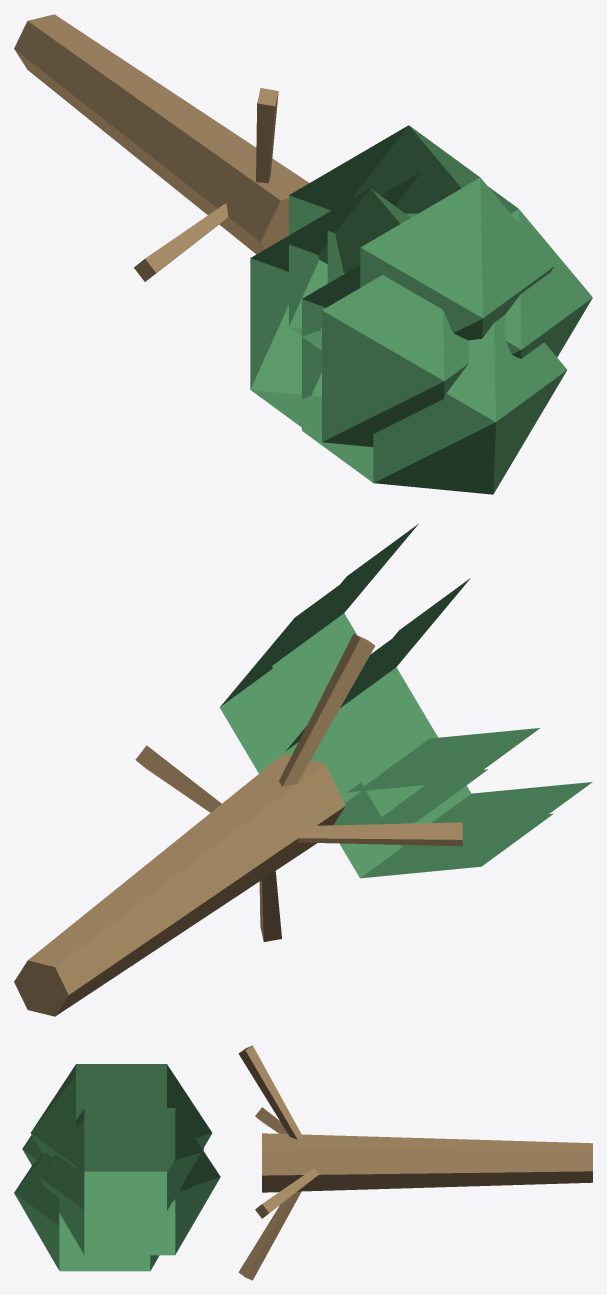
File: oak_tree.glb
3 views of the same model, one above another, from view 1: azimuth 30°, elevation 25°; view 2: azimuth 150°, elevation 25°; view 3: azimuth 270°, elevation 25° (orthographic). The views are drawn at different scales.
Parts seen in each view (by area): view 1: geometry_0; view 2: geometry_0; view 3: geometry_0.
Boxes of the visible parts, x1,y1,x2,y2 form: geometry_0: [14, 14, 592, 494]; geometry_0: [14, 524, 592, 1016]; geometry_0: [14, 1045, 592, 1280].
Bounding box in the file's own units: 1.44 × 1.37 × 3.5.
